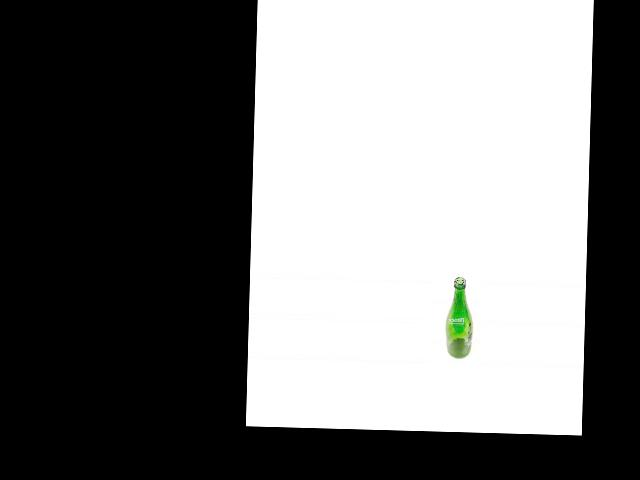beer: (444, 276, 474, 359)
